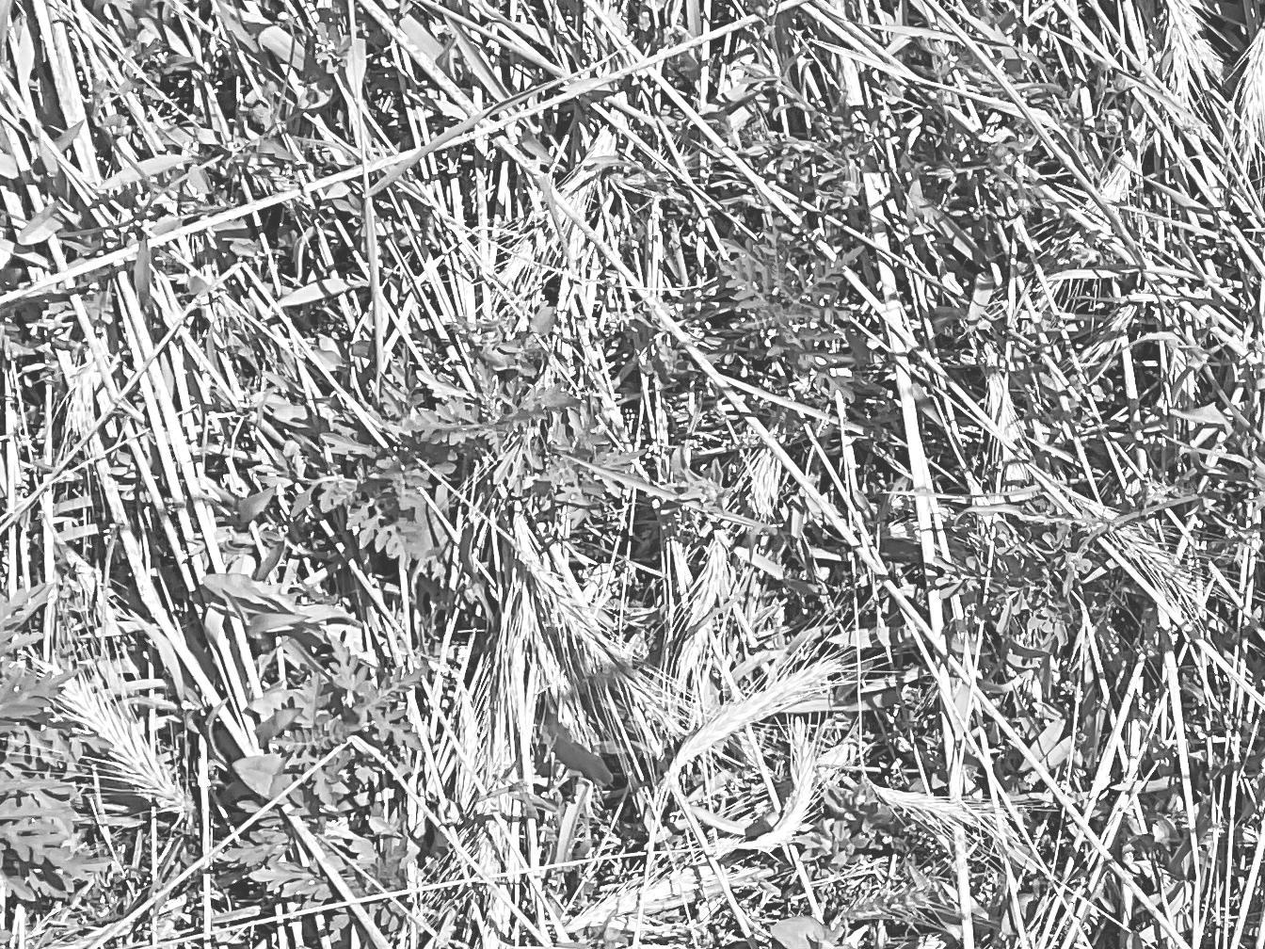AMBEL: (262, 637, 429, 798), (707, 223, 868, 382), (419, 333, 563, 446), (333, 427, 449, 562), (534, 415, 624, 514)
